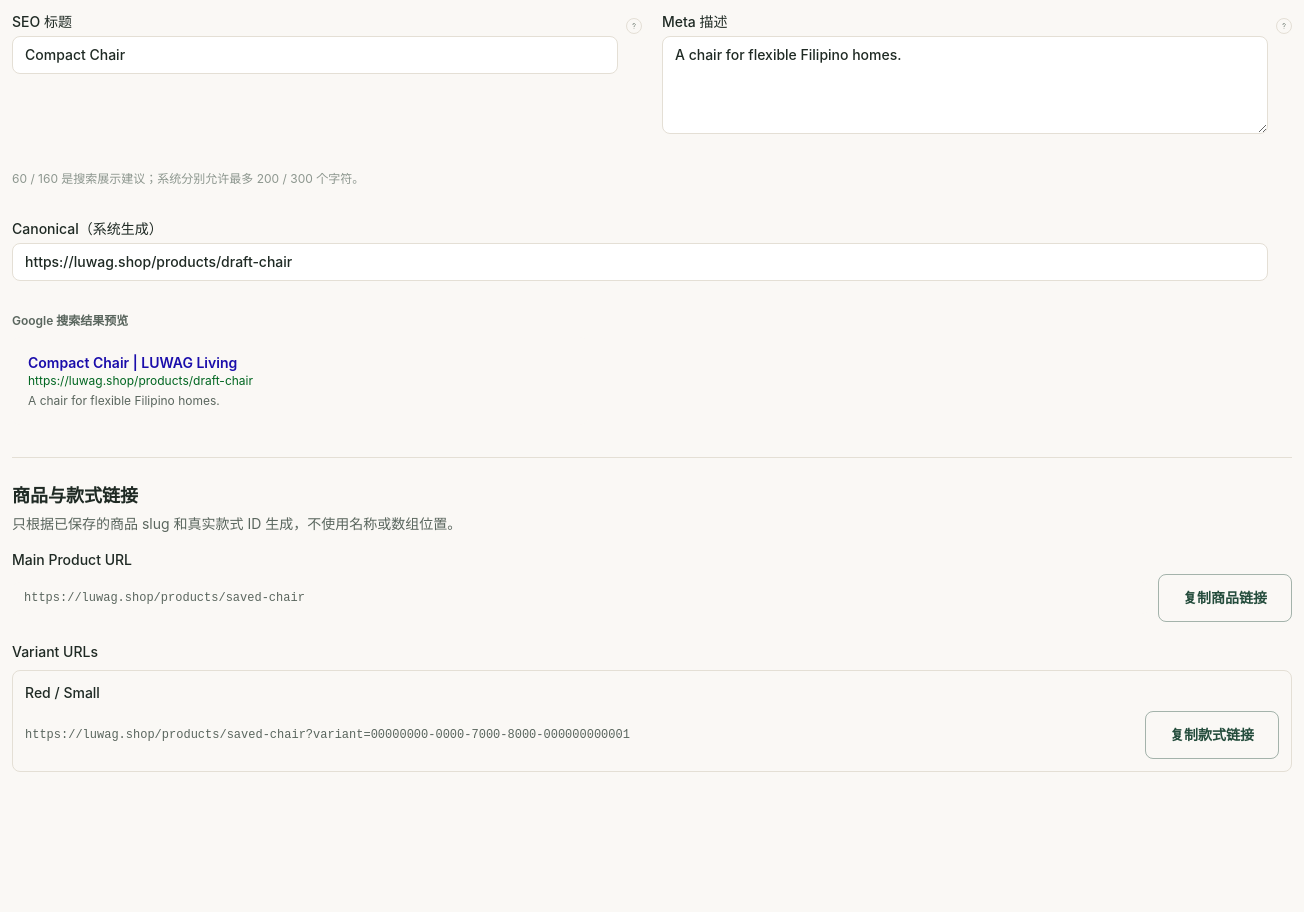
ProductSeoLinksPanel › shows a manual-copy message when copying fails
What coordinates should you click on to do the following:
click the button "复制商品链接"
I would click on:
 (1225, 598)
Its box is top-left (1158, 574), bottom-right (1292, 622).
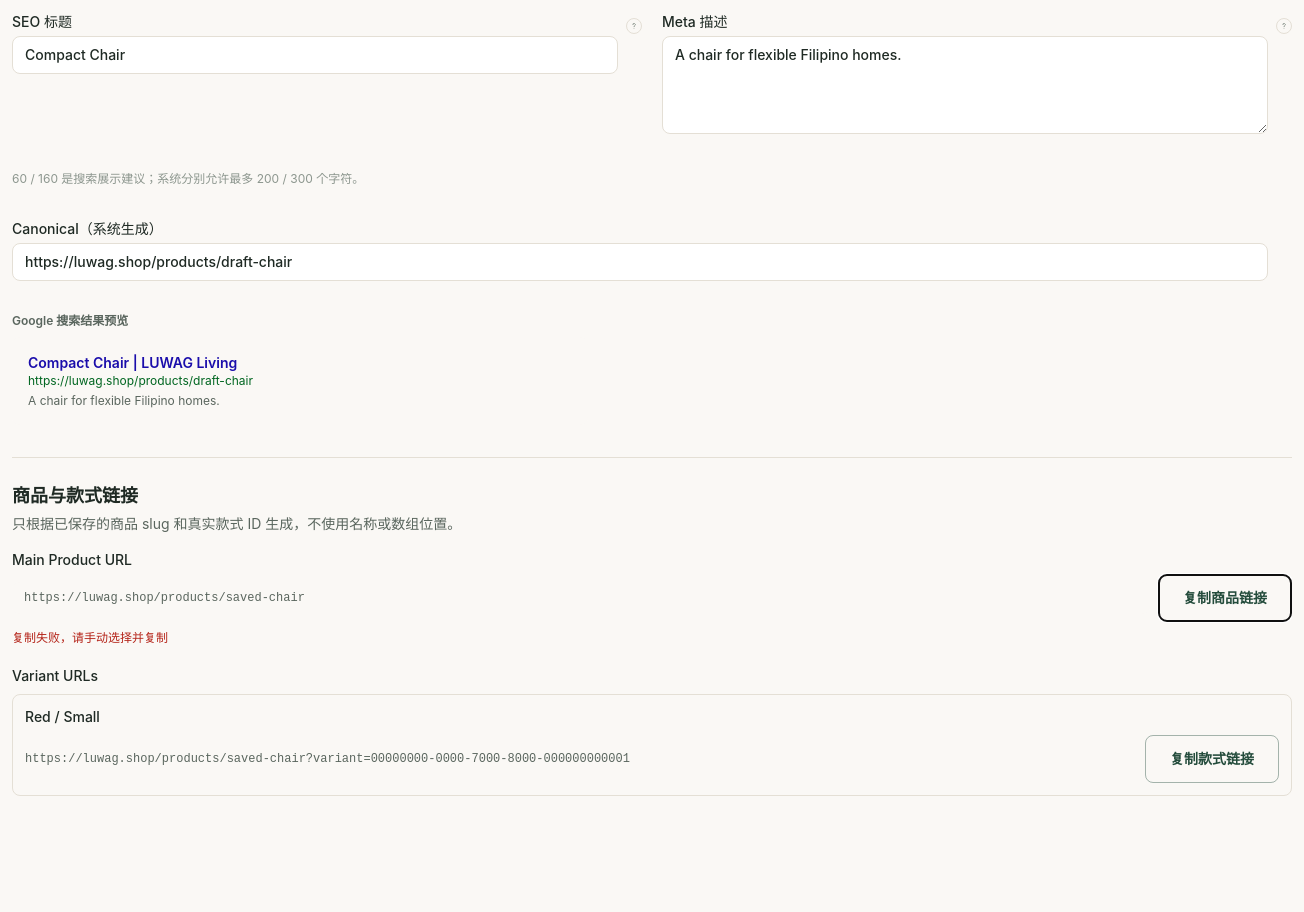
Expected: the text "复制失败，请手动选择并复制" is shown, top-left (12, 630), bottom-right (168, 645)
